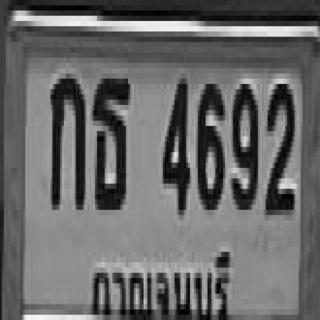A01: (48, 68, 84, 205)
A24: (91, 73, 128, 205)
N02: (264, 76, 293, 207)
N04: (161, 74, 188, 210)
N06: (196, 76, 223, 202)
N09: (231, 79, 256, 205)
P17: (87, 242, 235, 320)
